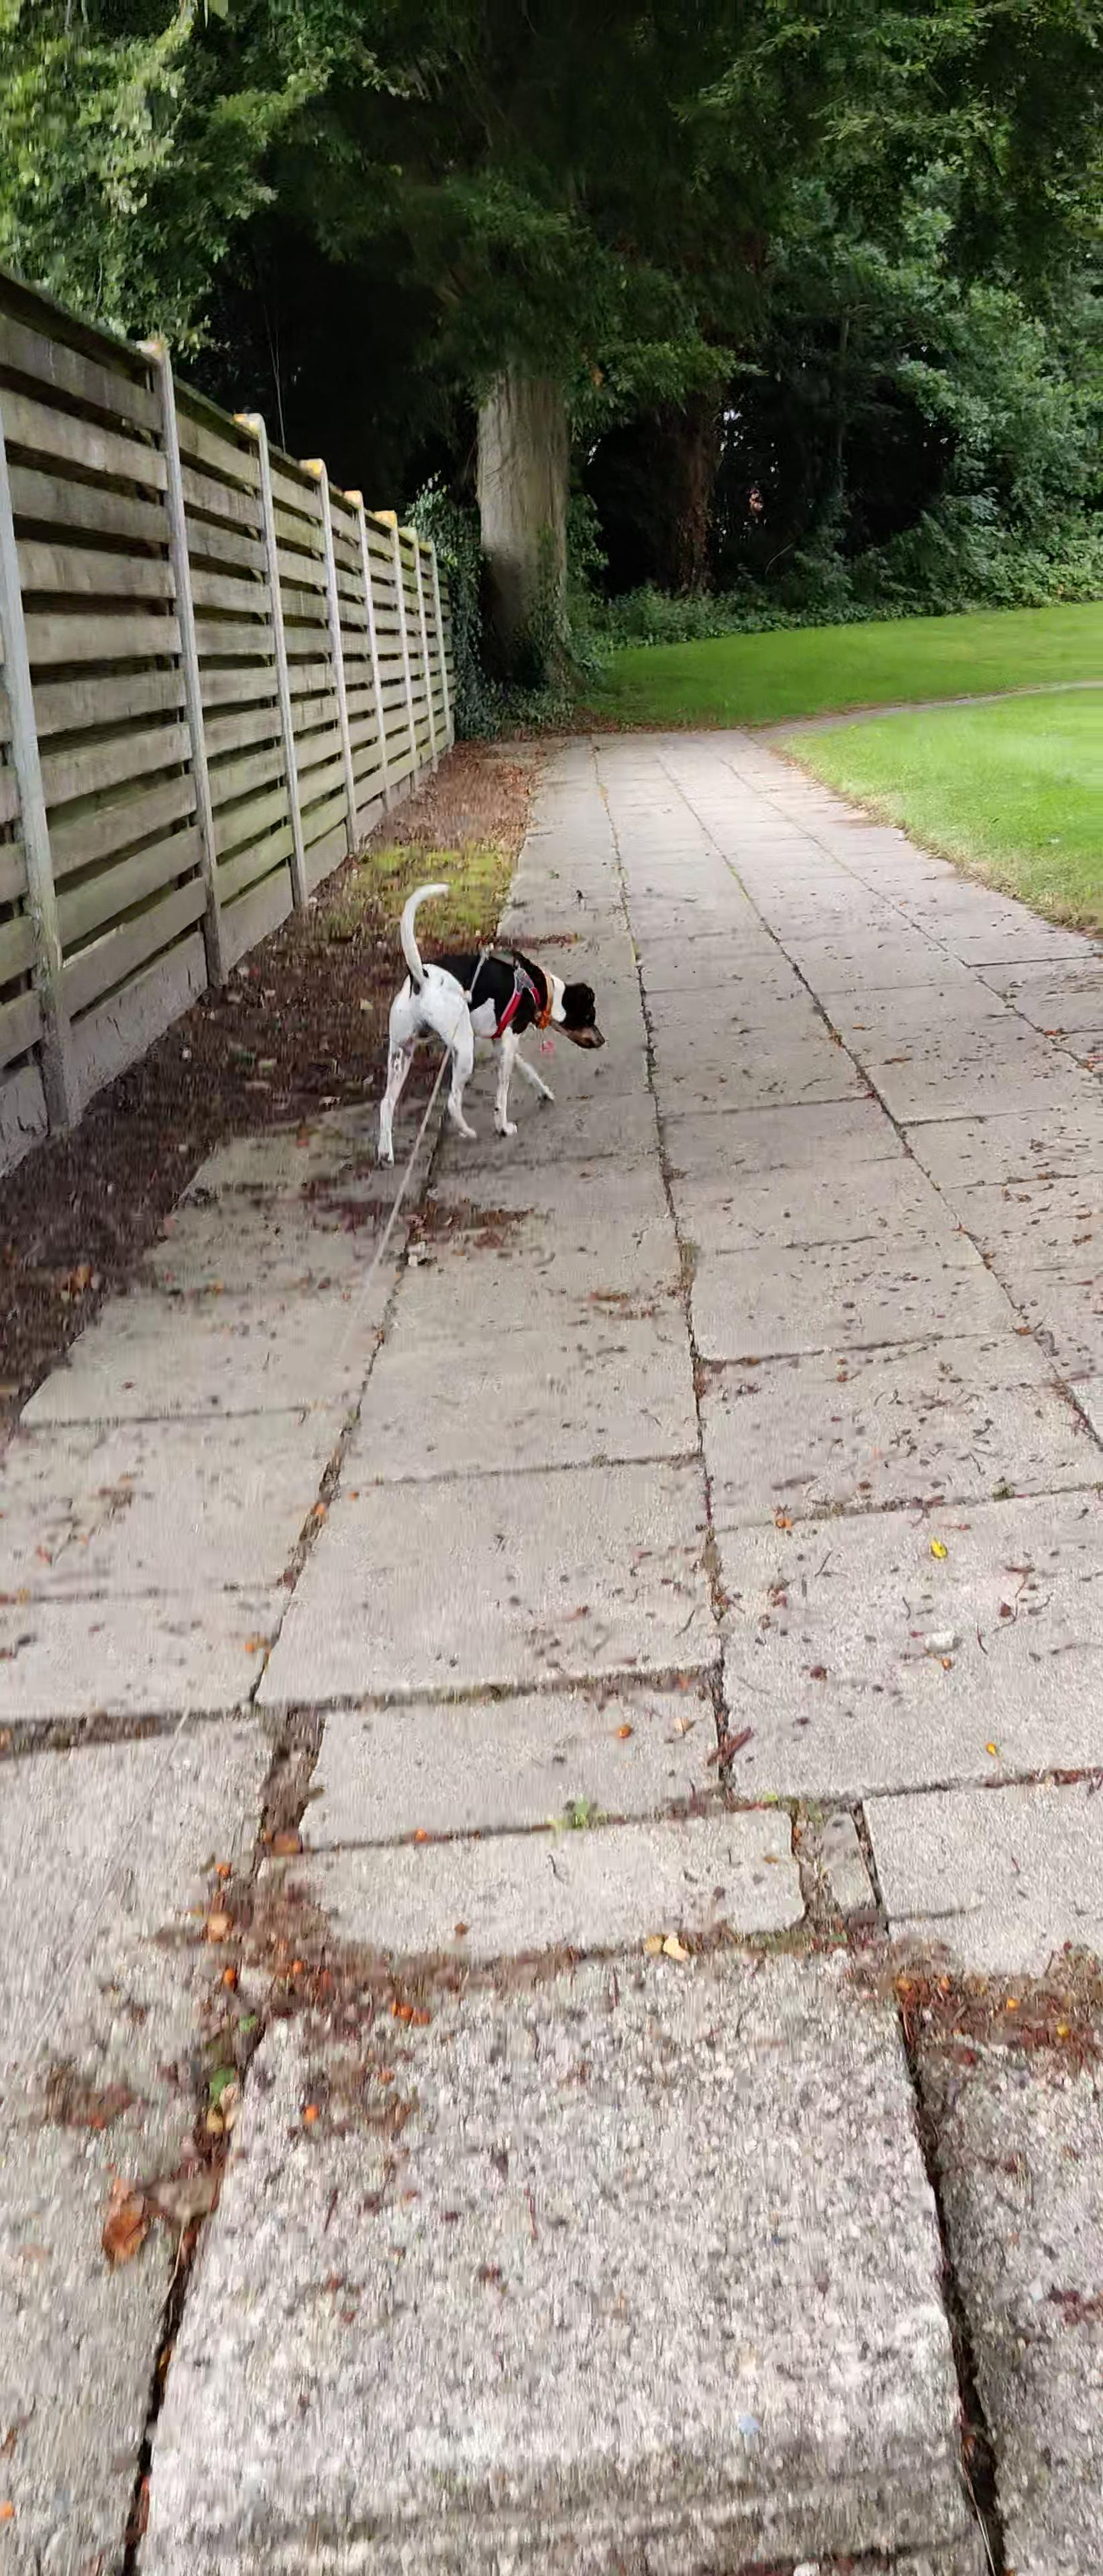Dog: (360, 881, 603, 1165)
